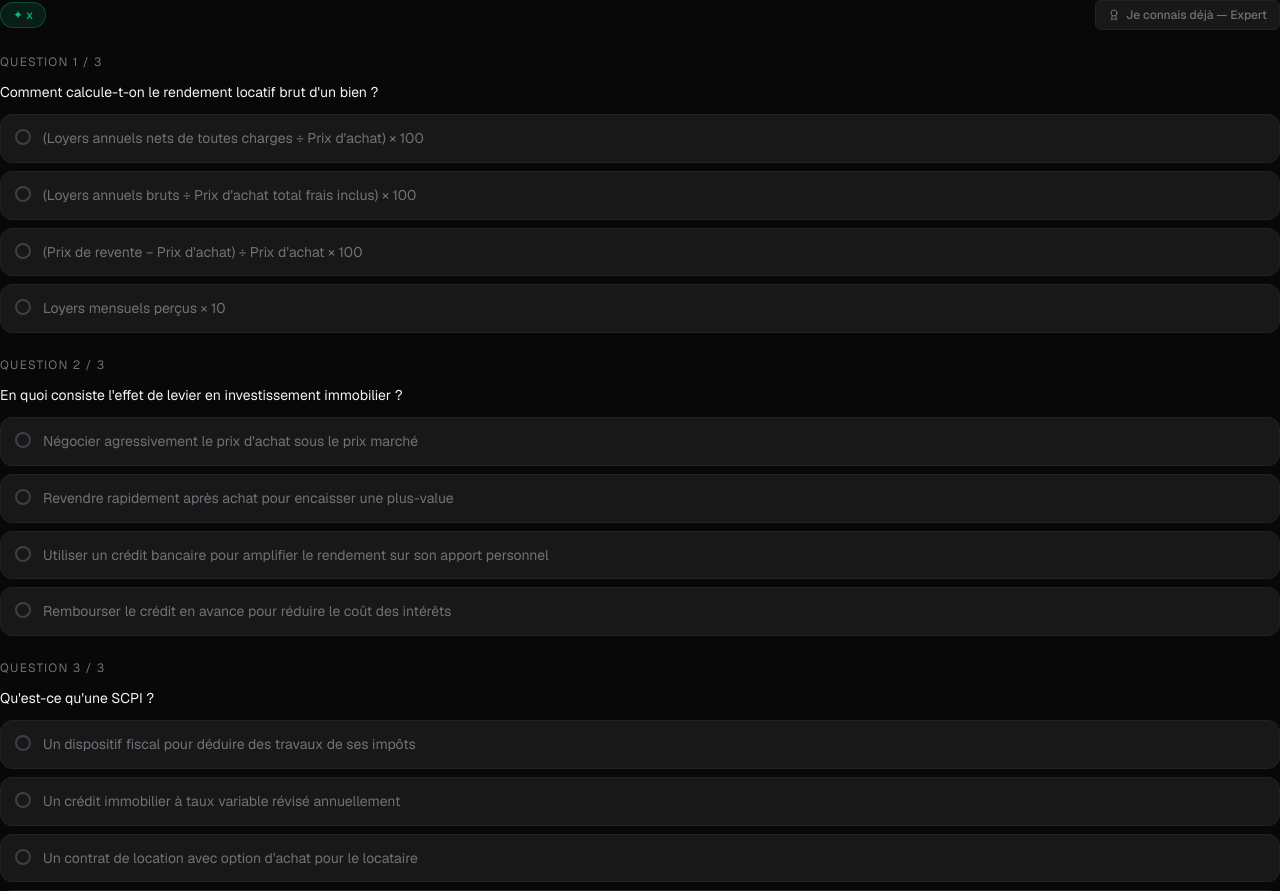
Test: QuizStep + ConfirmDialog (consolidation 2) › clic Cancel dans la modal → rien ne change
Click the button "Je connais déjà — Expert". click: (1188, 15)
box: [1095,0,1279,30]
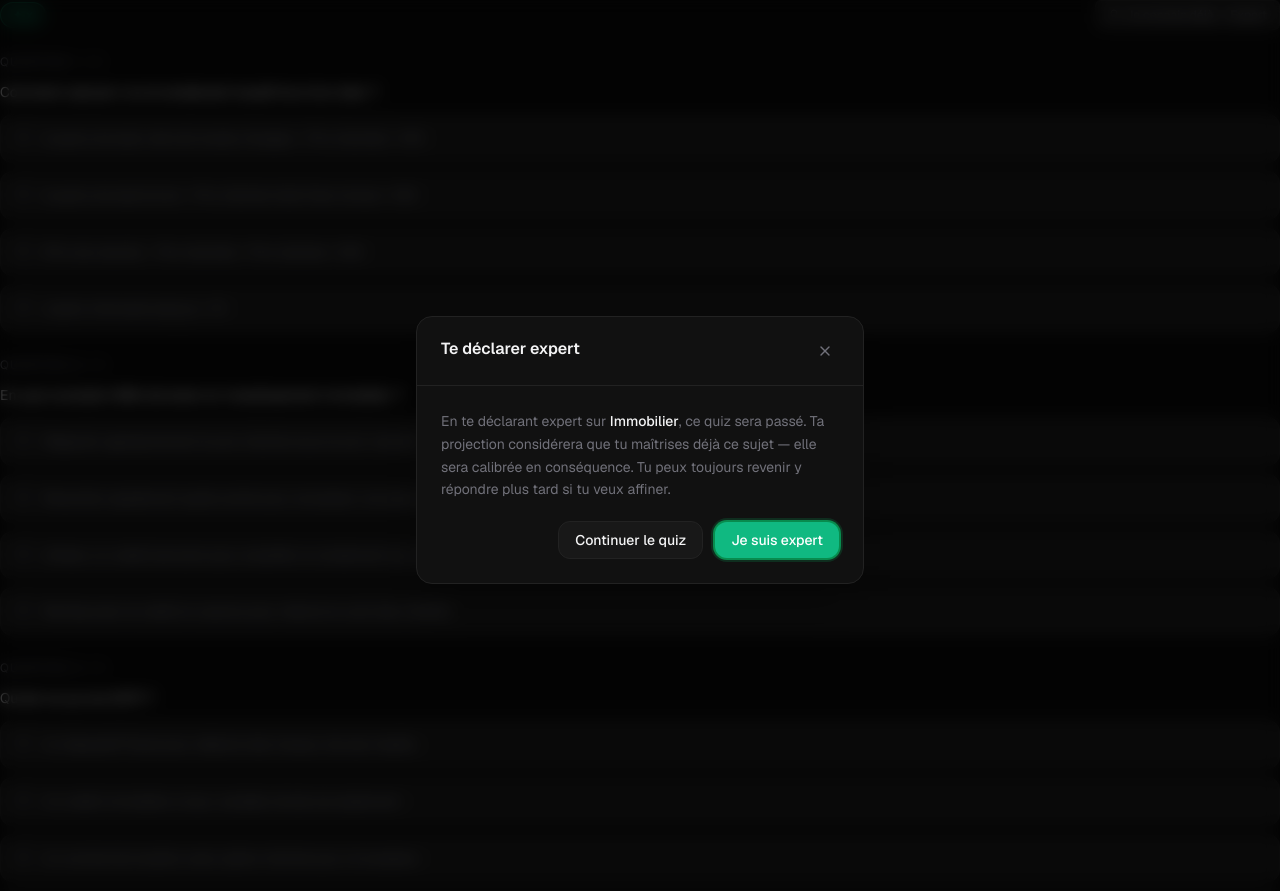
Click the button "Continuer le quiz". click: (631, 540)
box: [558,521,703,559]
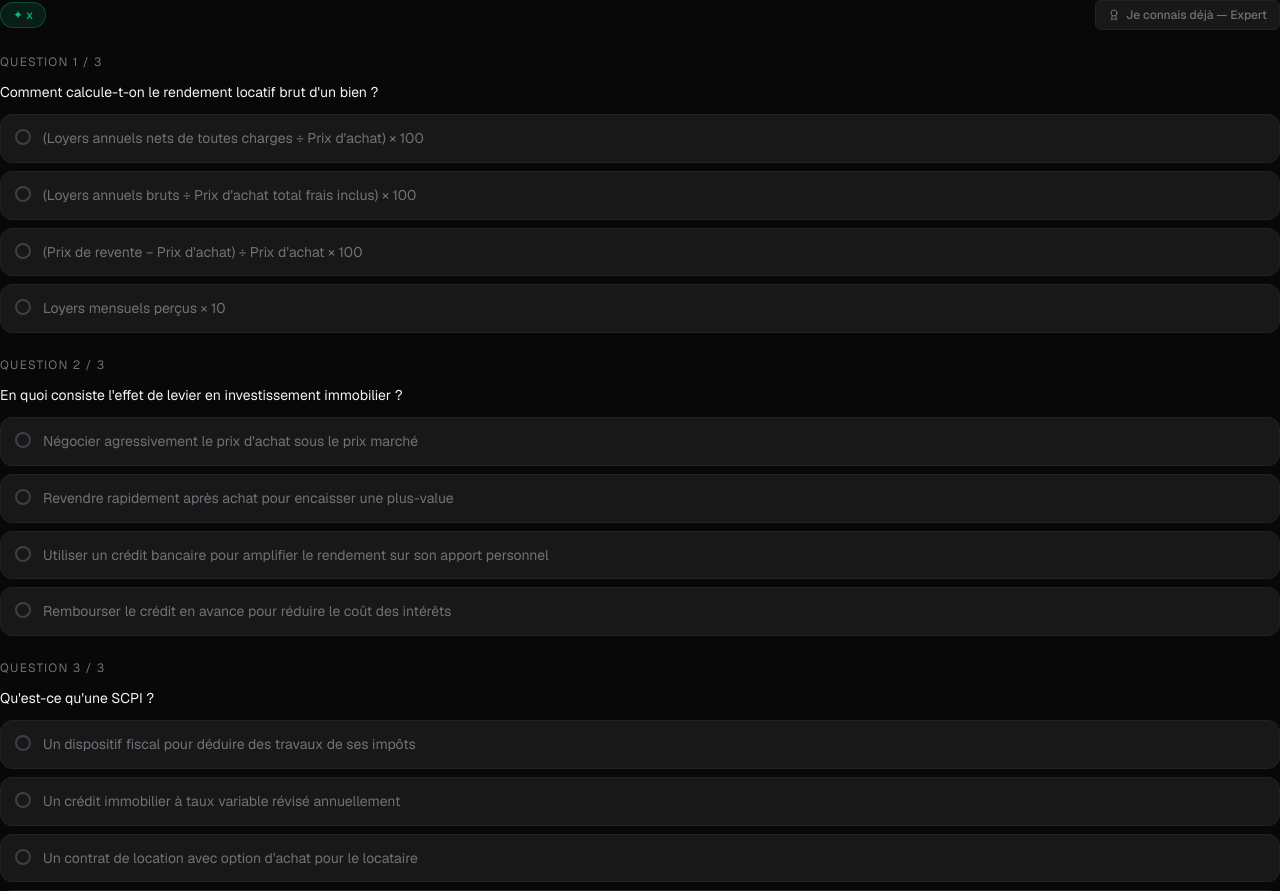
Expected: the element with test id "confirm-dialog" is gone
